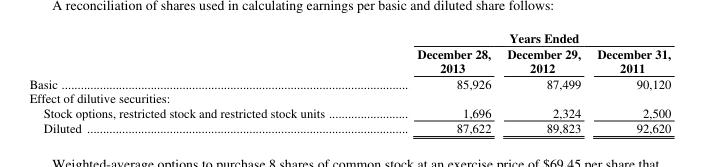table: (28, 29, 670, 135)
table column: (28, 29, 370, 135), (370, 29, 498, 135), (498, 29, 588, 135), (588, 29, 670, 135)
table column header: (28, 29, 670, 75)
table projected row header: (28, 89, 670, 104)
table row: (28, 45, 670, 75), (28, 29, 670, 45), (28, 119, 670, 135), (28, 89, 670, 104), (28, 104, 670, 119), (28, 75, 670, 89)
table spanning cell: (370, 29, 670, 45)
